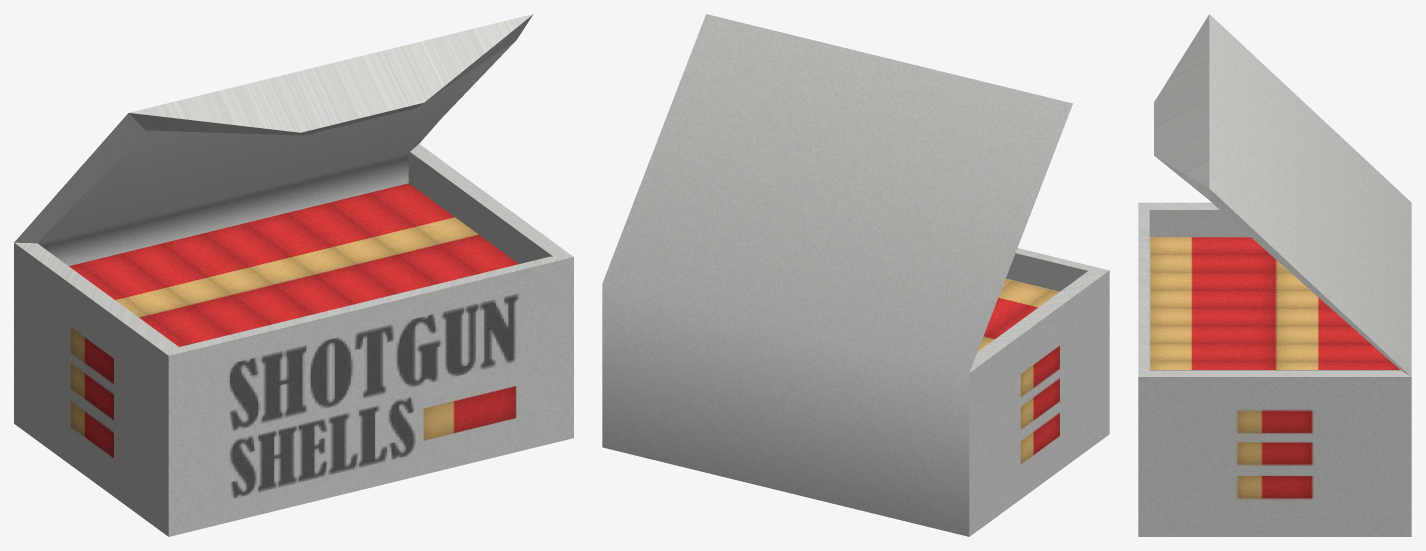
The model's file is ammo.obj.
3 renders of one model, left to right at view 1: azimuth 30°, elevation 25°; view 2: azimuth 150°, elevation 25°; view 3: azimuth 270°, elevation 25°, orthographic. The views are drawn at different scales.
Parts seen in each view (by area): view 1: pCube1; view 2: pCube1; view 3: pCube1.
Boxes of the visible parts, x1=… form: pCube1: x1=14, y1=14, x2=573, y2=536; pCube1: x1=602, y1=14, x2=1109, y2=536; pCube1: x1=1138, y1=14, x2=1411, y2=536.
Bounding box in the file's own units: 0.3885 × 0.3617 × 0.257.
